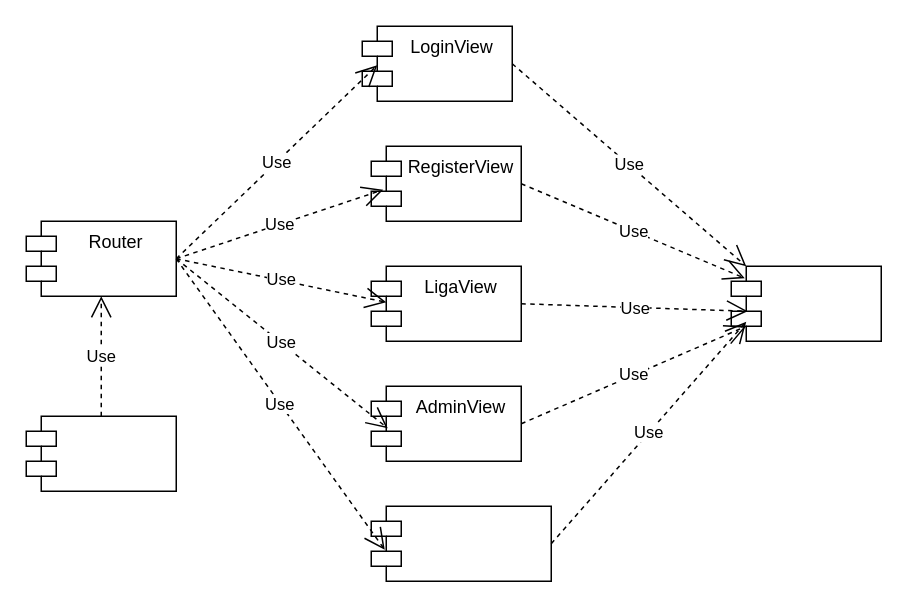
Some shapes in this 908 by 608 pixel diagram are drawn without their labels. Here are the shapes that lost their labels. From the top down, the box of each, then its label:
(730, 265, 881, 341): Services
(25, 415, 176, 491): AppModule
(370, 505, 551, 581): LigaChangeView
